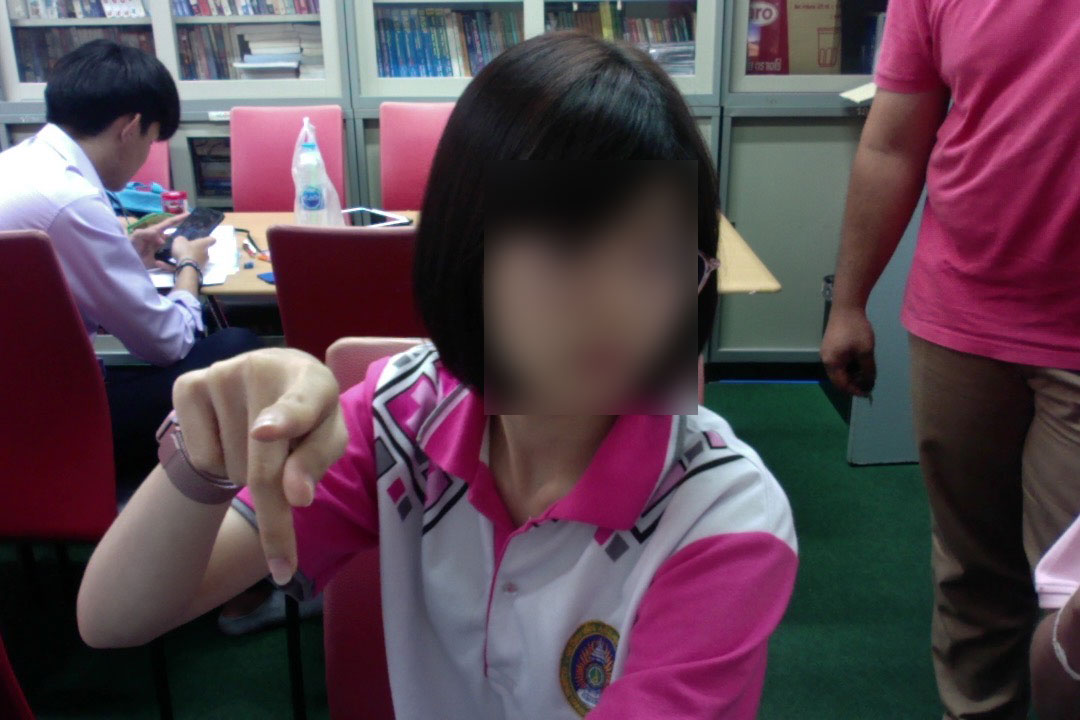por: (162, 336, 358, 589)
